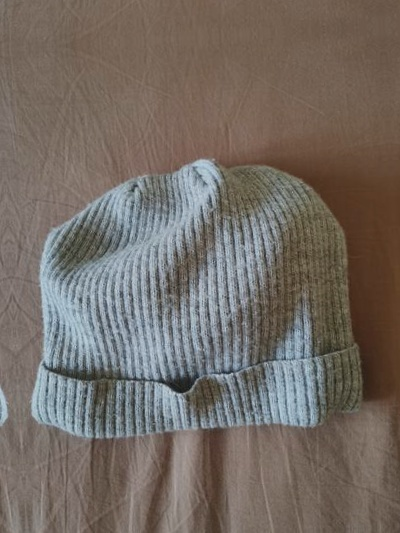Hat: (10, 153, 370, 450), (0, 175, 16, 472)
